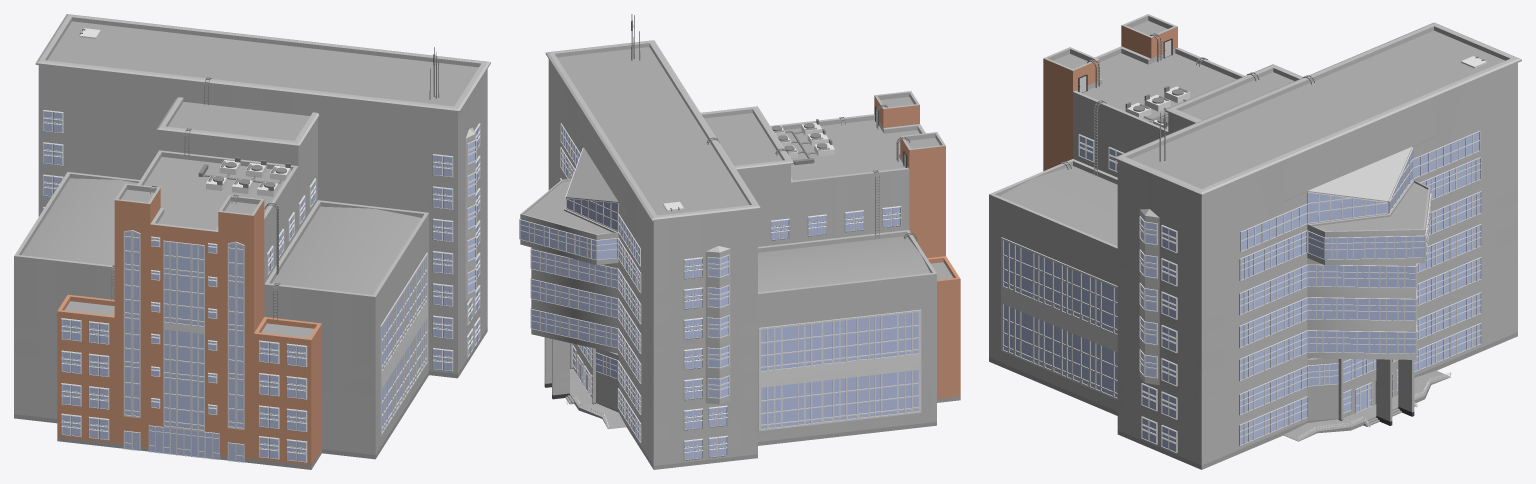
The model's file is IFKSIT_Svob82_st12.FBX.
3 views of the same model, side by side, from view 1: azimuth 30°, elevation 25°; view 2: azimuth 150°, elevation 25°; view 3: azimuth 270°, elevation 25° (orthographic). The views are drawn at different scales.
Visible parts, largest first — view 1: IFKSIT_Svob82_st12; view 2: IFKSIT_Svob82_st12; view 3: IFKSIT_Svob82_st12.
Part boxes in pixels (x1=…): IFKSIT_Svob82_st12: x1=14, y1=14, x2=490, y2=469; IFKSIT_Svob82_st12: x1=519, y1=14, x2=960, y2=469; IFKSIT_Svob82_st12: x1=989, y1=14, x2=1521, y2=469.
Bounding box in the file's own units: 4350 × 2930 × 4350.
